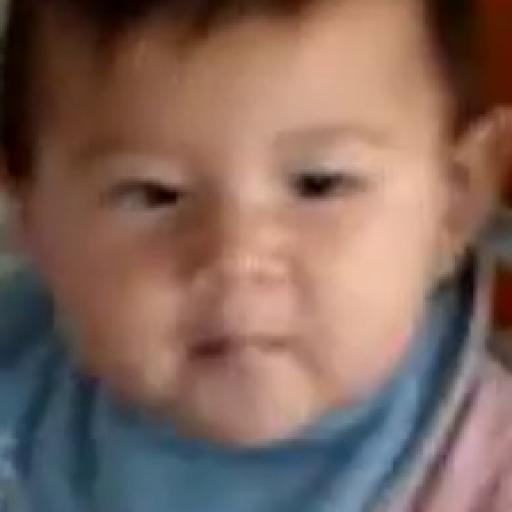Autism: (14, 42, 486, 468)
